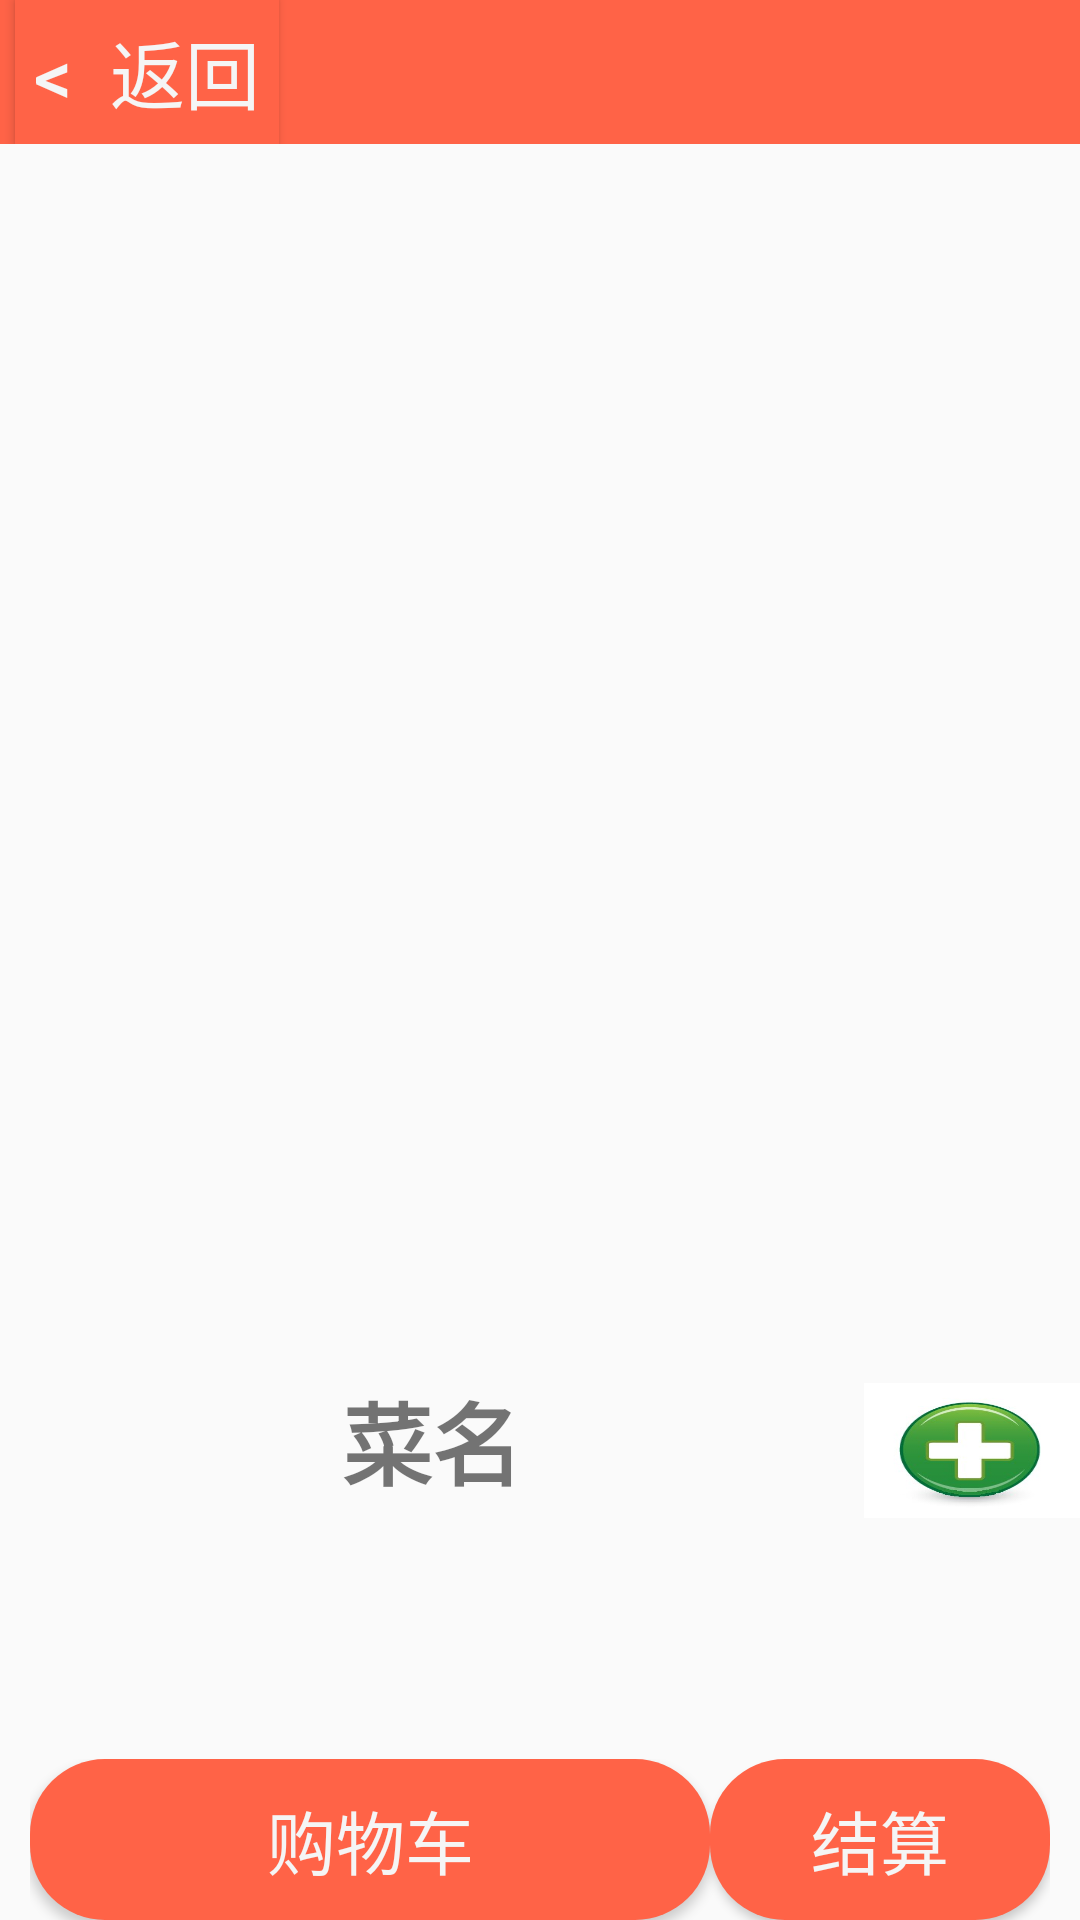

Named icons in this screenshot (1080px x 1920px) and their centers, [x,y]:
sadd: [970,1452]
